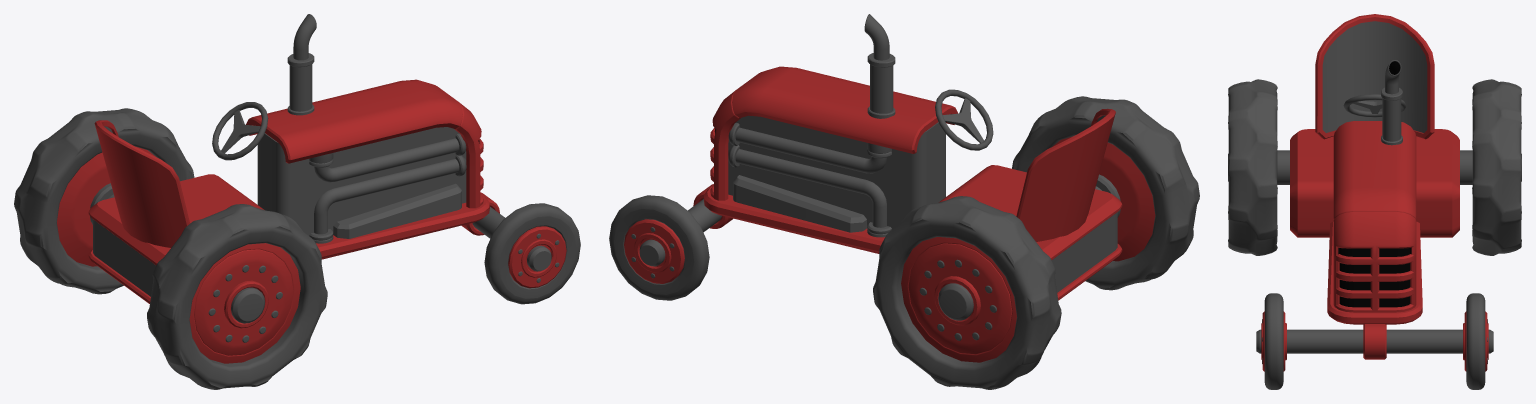
The model's file is TractorModel.fbx.
The picture shows the model from 3 angles, left to right: view 1: azimuth 30°, elevation 25°; view 2: azimuth 150°, elevation 25°; view 3: azimuth 270°, elevation 25°; orthographic projection. The views are drawn at different scales.
Visible parts, largest first — view 1: Tractor; view 2: Tractor; view 3: Tractor.
Part boxes in pixels (left/top/right/bottom): Tractor: left=14, top=14, right=580, bottom=389; Tractor: left=609, top=14, right=1199, bottom=389; Tractor: left=1228, top=14, right=1521, bottom=389.
Bounding box in the file's own units: 11.01 × 6.72 × 7.
